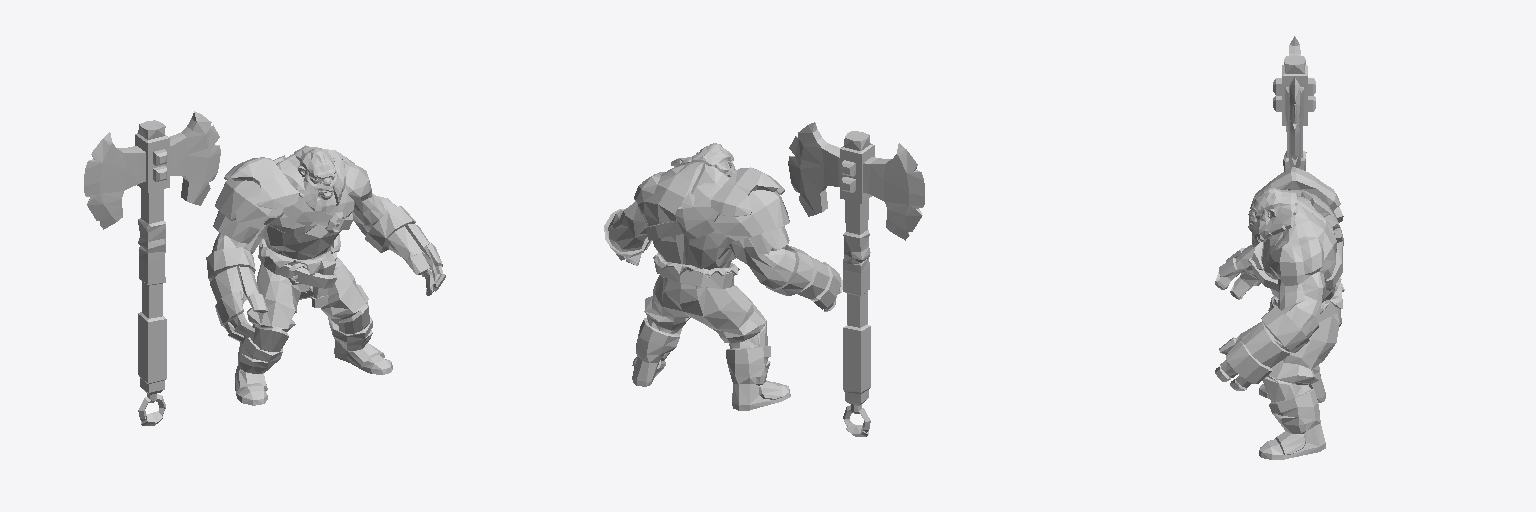
The model's file is AXE.obj.
3 views of the same model, side by side, from view 1: azimuth 30°, elevation 25°; view 2: azimuth 150°, elevation 25°; view 3: azimuth 270°, elevation 25° (orthographic).
Visible parts, largest first — view 1: axe_body_color, tweek1_axe_weapon_color, axe_armor_color, axe_belt_color; view 2: axe_body_color, tweek1_axe_weapon_color, axe_armor_color, axe_belt_color; view 3: axe_body_color, tweek1_axe_weapon_color, axe_armor_color.
Part boxes in pixels (left/top/right/bottom): axe_body_color: left=206, top=145, right=445, bottom=405; tweek1_axe_weapon_color: left=84, top=111, right=220, bottom=425; axe_armor_color: left=213, top=155, right=352, bottom=243; axe_belt_color: left=258, top=247, right=336, bottom=307; axe_body_color: left=604, top=143, right=842, bottom=410; tweek1_axe_weapon_color: left=788, top=122, right=924, bottom=436; axe_armor_color: left=645, top=167, right=789, bottom=254; axe_belt_color: left=659, top=267, right=734, bottom=288; axe_body_color: left=1215, top=188, right=1344, bottom=459; tweek1_axe_weapon_color: left=1273, top=36, right=1315, bottom=171; axe_armor_color: left=1248, top=167, right=1343, bottom=291.
Bounding box in the file's own units: 243 × 215 × 83.21.